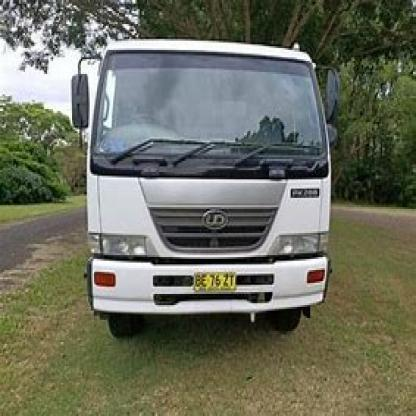dump_truck: (62, 18, 350, 346)
